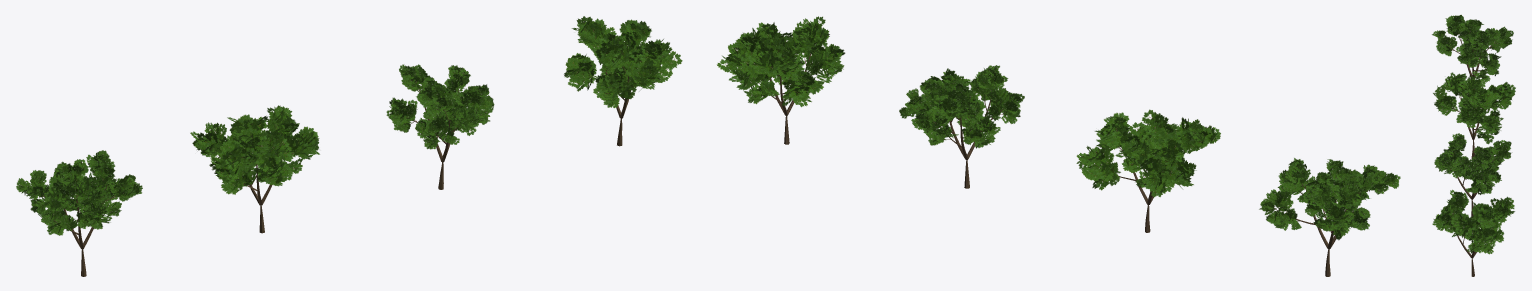
File: tree_maple.glb
The picture shows the model from 3 angles, left to right: view 1: azimuth 30°, elevation 25°; view 2: azimuth 150°, elevation 25°; view 3: azimuth 270°, elevation 25°; orthographic projection. The views are drawn at different scales.
Parts seen in each view (by area): view 1: v0_lo_leaf, v1_lo_leaf, v0_hi_leaf, v1_hi_leaf, v0_hi_bark; view 2: v0_lo_leaf, v1_lo_leaf, v0_hi_leaf, v1_hi_leaf, v1_hi_bark, v0_hi_bark; view 3: v0_lo_leaf, v1_lo_leaf, v0_hi_leaf, v1_hi_leaf, v0_lo_bark, v0_hi_bark, v1_lo_bark, v1_hi_bark.
Part boxes in pixels (left/top/right/bottom): v0_lo_leaf: left=190, top=105, right=319, bottom=194; v1_lo_leaf: left=564, top=16, right=682, bottom=108; v0_hi_leaf: left=16, top=150, right=142, bottom=235; v1_hi_leaf: left=386, top=64, right=494, bottom=149; v0_hi_bark: left=41, top=174, right=119, bottom=276; v0_lo_leaf: left=1076, top=109, right=1220, bottom=197; v1_lo_leaf: left=717, top=16, right=845, bottom=107; v0_hi_leaf: left=1259, top=158, right=1400, bottom=240; v1_hi_leaf: left=899, top=65, right=1024, bottom=148; v1_hi_bark: left=916, top=90, right=1003, bottom=188; v0_hi_bark: left=1273, top=184, right=1369, bottom=276; v0_lo_leaf: left=1433, top=72, right=1515, bottom=144; v1_lo_leaf: left=1432, top=189, right=1514, bottom=254; v0_hi_leaf: left=1432, top=15, right=1513, bottom=82; v1_hi_leaf: left=1434, top=133, right=1511, bottom=194; v0_lo_bark: left=1451, top=94, right=1486, bottom=158; v0_hi_bark: left=1449, top=30, right=1499, bottom=89; v1_lo_bark: left=1451, top=210, right=1479, bottom=276; v1_hi_bark: left=1450, top=151, right=1494, bottom=217.
Bounding box in the file's own units: 73.23 × 12.96 × 12.55.
2 materials, 2 textured.
